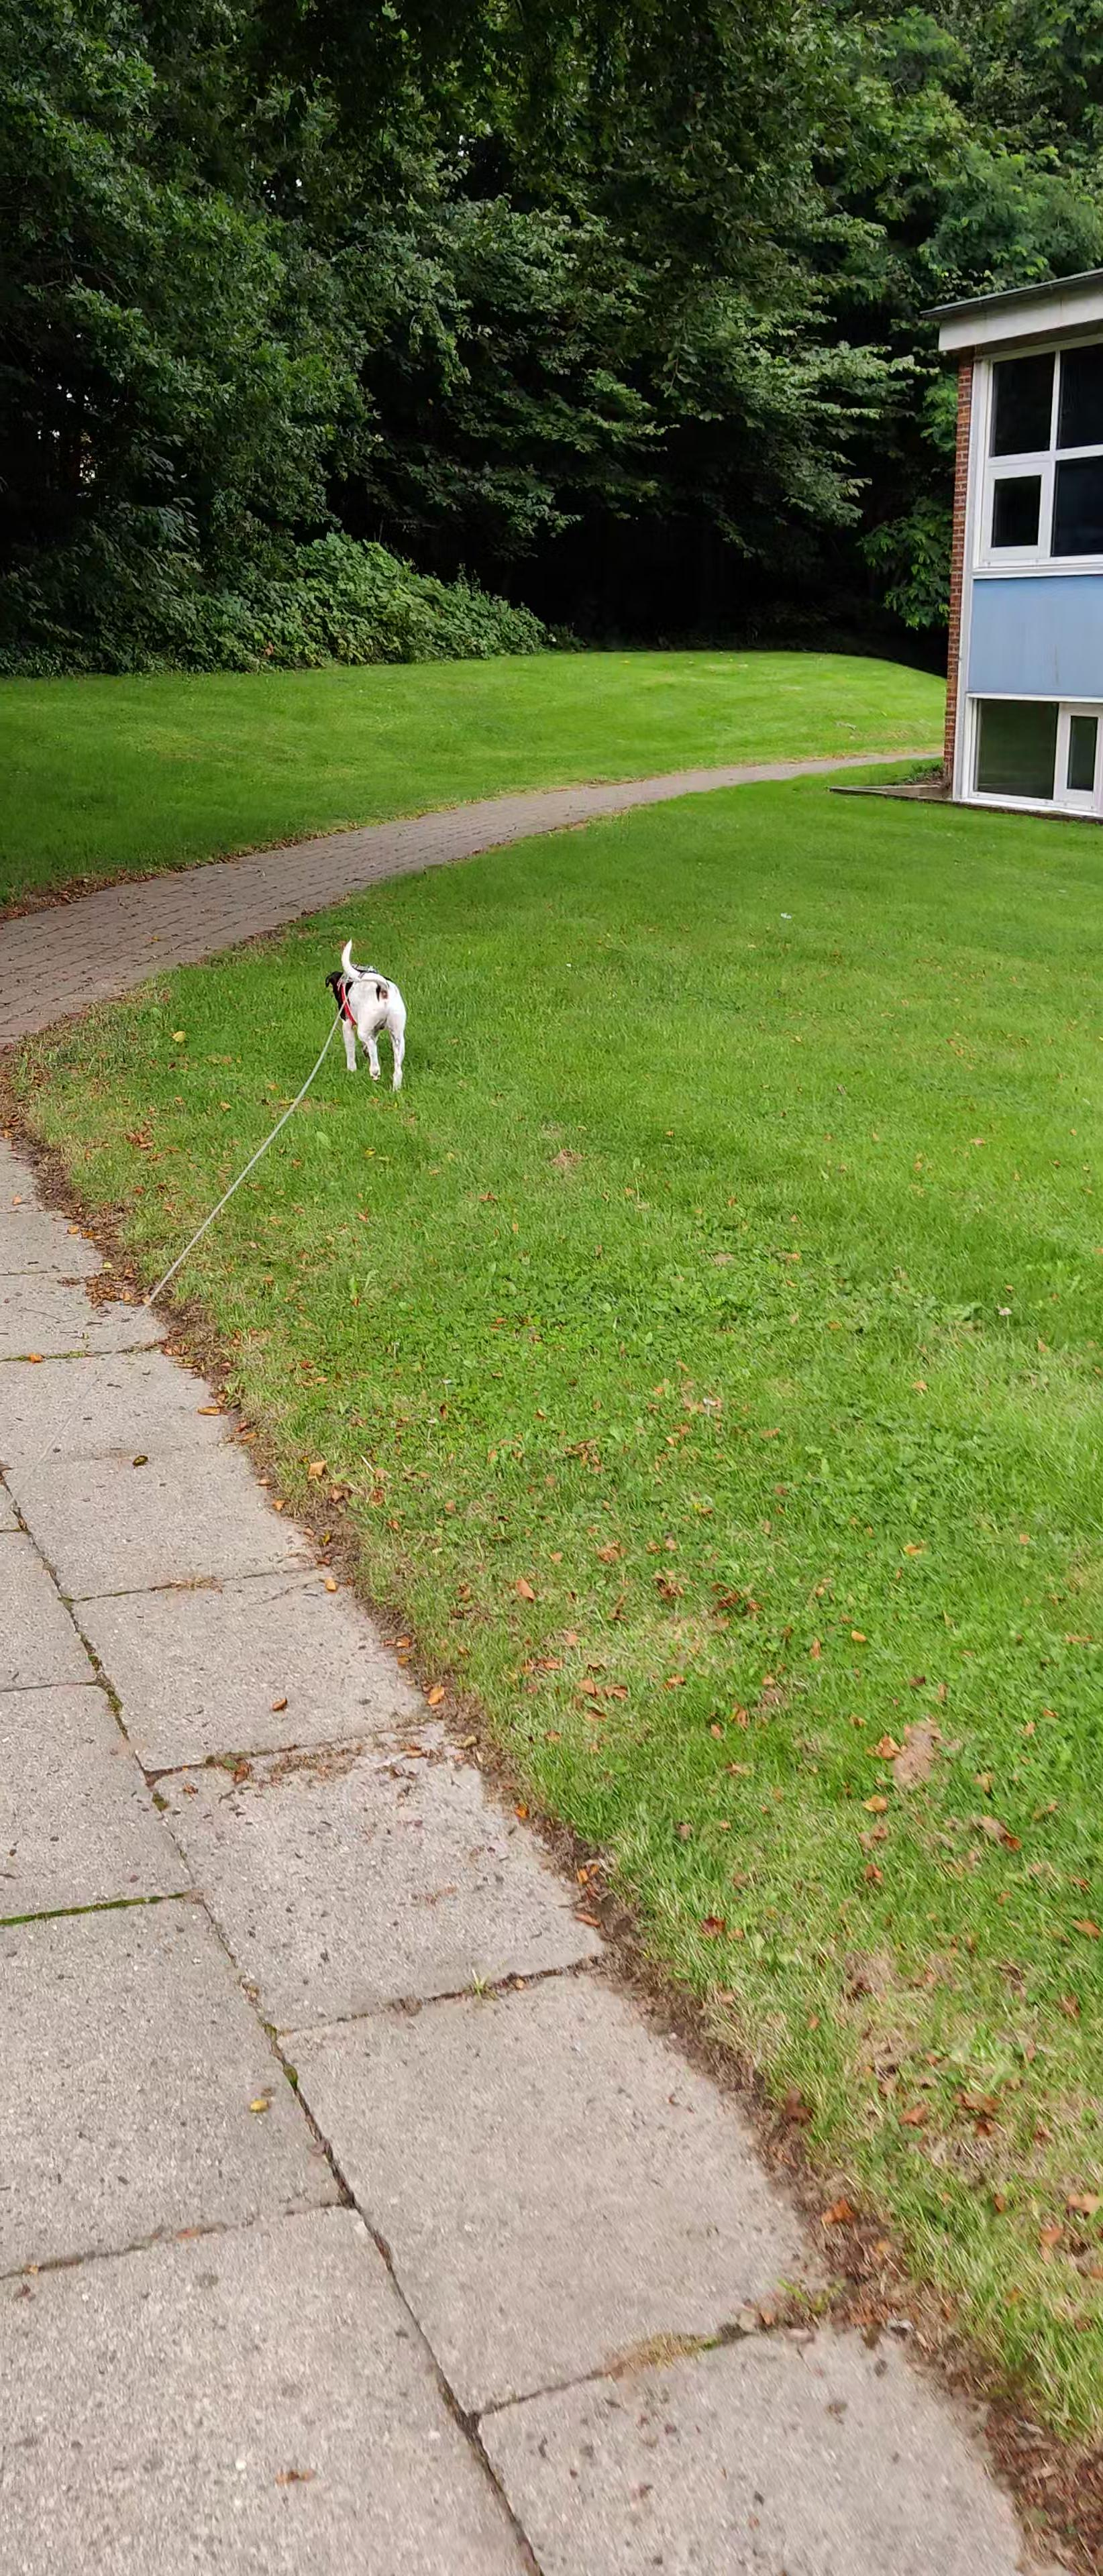Dog: (309, 935, 414, 1092)
